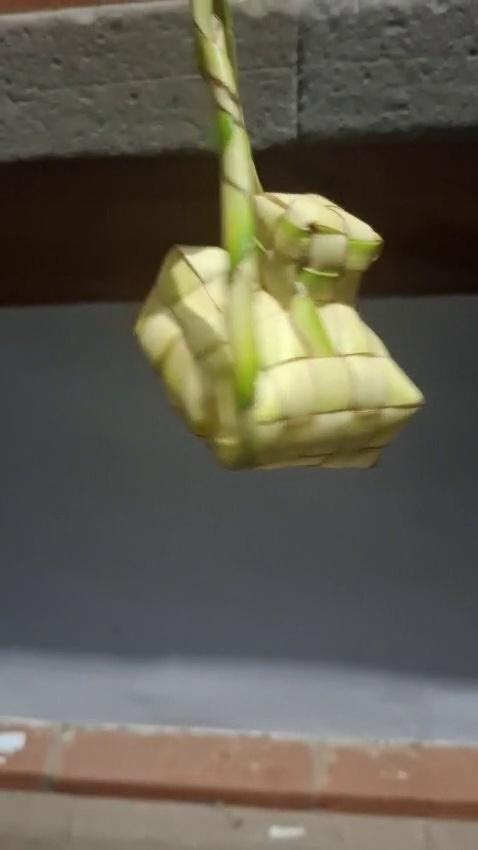Tipat Gong: (129, 1, 423, 469)
